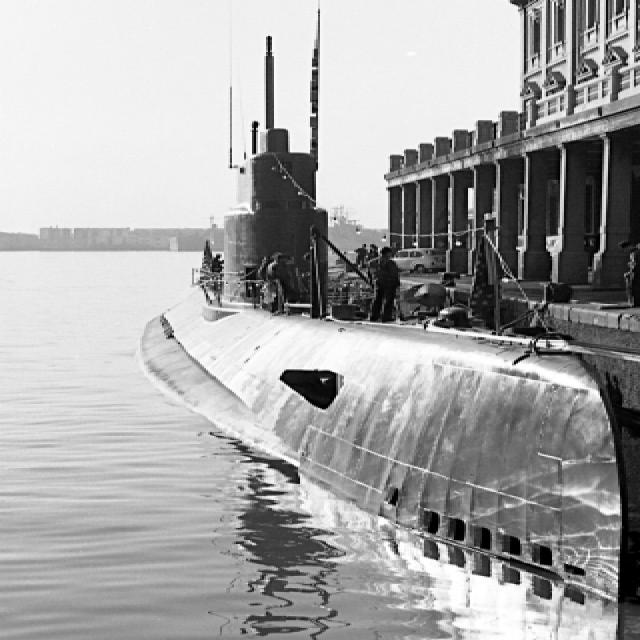submarine: (107, 129, 627, 606)
